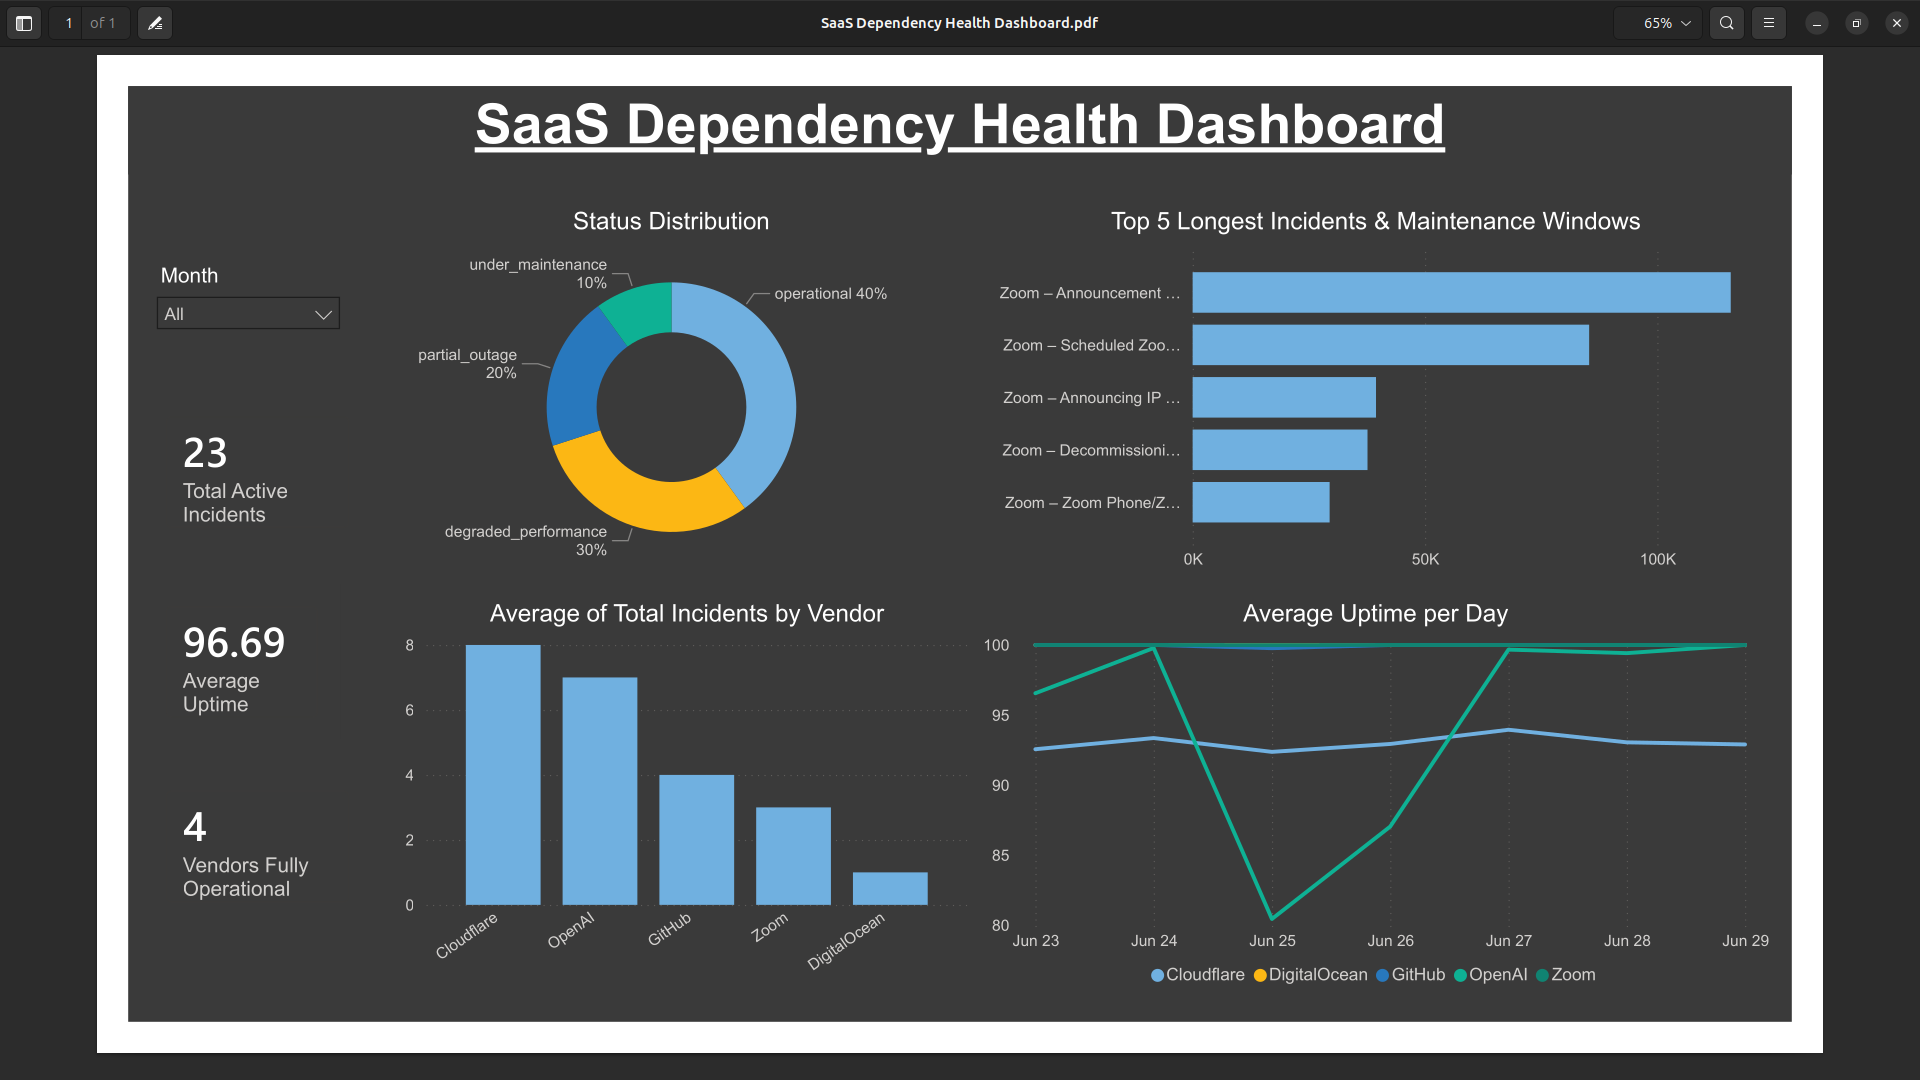

The dashboard page shown, as its layout file describes it:
{"tool":"powerbi","page":{"name":"Page 1","canvas":[1280,720],"ordinal":0},"visuals":[{"type":"cardVisual","fields":{"Data":["Sum(vendor_incident_metrics.total_incidents)"]},"box":[11.7,236.7,175,120],"z":0},{"type":"cardVisual","fields":{"Data":["Avg(uptime_daily.uptime_pct_excl_maintenance)"]},"box":[11.7,382.9,151.2,120],"z":1000},{"type":"cardVisual","fields":{"Data":["vendor_current_status.Vendors Fully Operational"]},"box":[11.7,525.4,175,120],"z":2000},{"type":"lineChart","title":"Average Uptime per Day","fields":{"Y":["Avg(uptime_daily.uptime_pct_excl_maintenance)"],"Category":["uptime_daily.date.Variation.Date Hierarchy.Year","uptime_daily.date.Variation.Date Hierarchy.Quarter","uptime_daily.date.Variation.Date Hierarchy.Month","uptime_daily.date.Variation.Date Hierarchy.Day"],"Series":["uptime_daily.vendor"]},"box":[651.7,395,616.7,308.3],"z":3000},{"type":"slicer","fields":{"Values":["uptime_daily.date.Variation.Date Hierarchy.Month"]},"box":[11.7,131.7,161.7,75],"z":4000},{"type":"columnChart","title":"Average of Total Incidents by Vendor","fields":{"Y":["Sum(vendor_incident_metrics.total_incidents)"],"Category":["vendor_incident_metrics.vendor"]},"box":[208.3,395,443.3,308.3],"z":5000},{"type":"donutChart","title":"Status Distribution","fields":{"Y":["CountNonNull(component_status_distribution.status)"],"Category":["component_status_distribution.status"]},"box":[208.3,93.3,420,286.7],"z":6000},{"type":"barChart","title":"Top 5 Longest Incidents & Maintenance Windows","fields":{"Category":["incident_summary.Incident Label"],"Y":["Sum(incident_summary.elapsed_minutes)"]},"box":[651.7,93.3,616.7,286.7],"z":6001},{"type":"textbox","box":[0,0,1280,68.3],"z":6002}]}

Visuals, with their boxes on the page's 1280x720 design canvas (x1, y1, x2, y2). These are canvas units, not pixel positions in the 1920x1080 screenshot, which may show the page scaled, cropped or inside an application window:
cardVisual - Sum(vendor_incident_metrics.total_incidents): l=12, t=237, r=187, b=357
cardVisual - Avg(uptime_daily.uptime_pct_excl_maintenance): l=12, t=383, r=163, b=503
cardVisual - vendor_current_status.Vendors Fully Operational: l=12, t=525, r=187, b=645
"Average Uptime per Day" lineChart: l=652, t=395, r=1268, b=703
slicer - uptime_daily.date.Variation.Date Hierarchy.Month: l=12, t=132, r=173, b=207
"Average of Total Incidents by Vendor" columnChart: l=208, t=395, r=652, b=703
"Status Distribution" donutChart: l=208, t=93, r=628, b=380
"Top 5 Longest Incidents & Maintenance Windows" barChart: l=652, t=93, r=1268, b=380
textbox: l=0, t=0, r=1280, b=68
